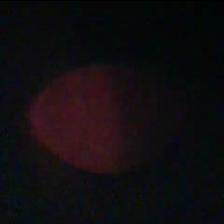fertile: (29, 63, 176, 173)
